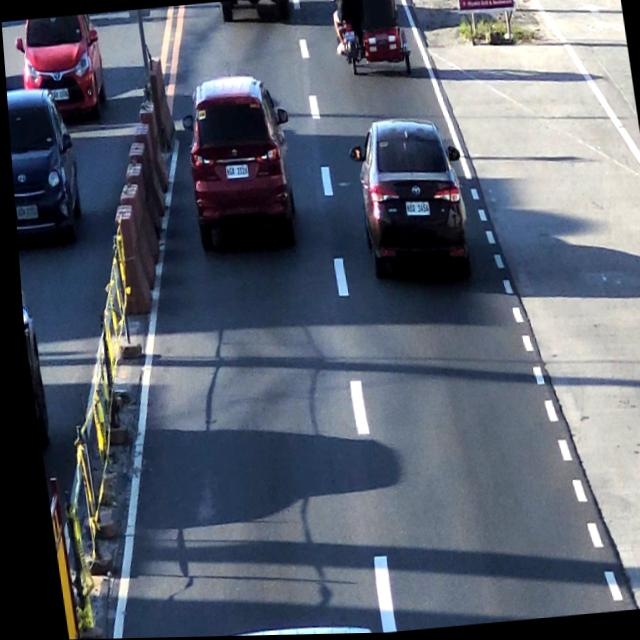Car: (173, 70, 301, 251), (348, 113, 470, 286)
License-Plate: (400, 199, 430, 220), (219, 159, 246, 182), (340, 28, 355, 42)
Tricycle: (328, 0, 412, 81)
